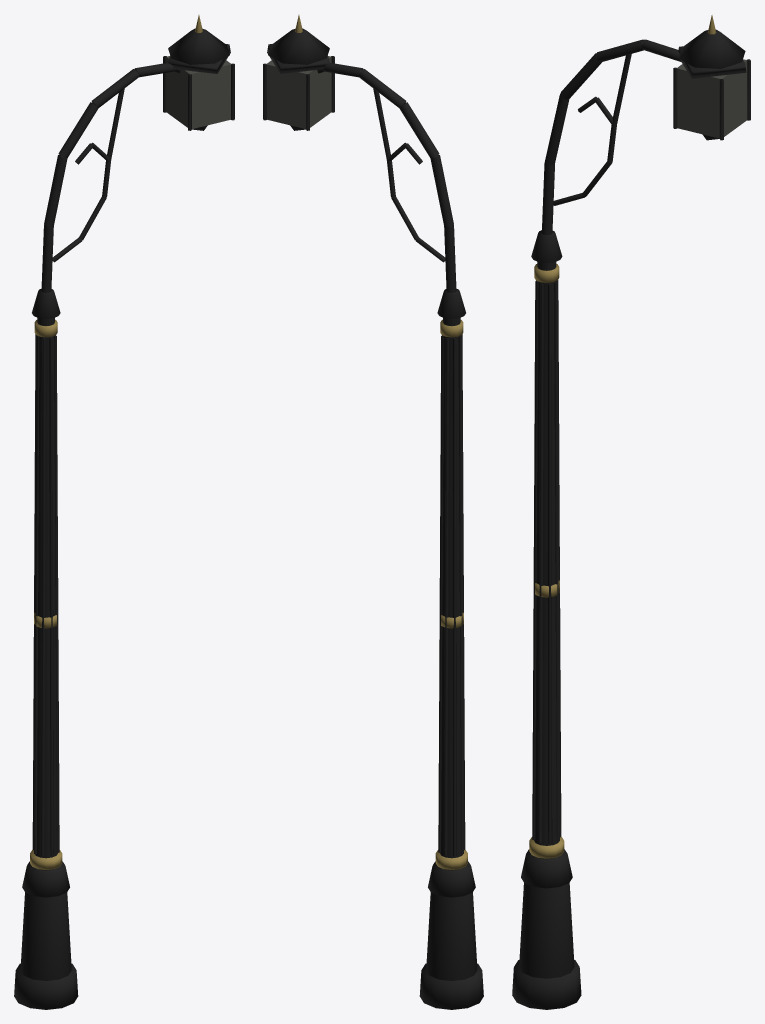
The model's file is SM_Prop_lamp_heritage_0.glb.
The picture shows the model from 3 angles, left to right: view 1: azimuth 30°, elevation 25°; view 2: azimuth 150°, elevation 25°; view 3: azimuth 330°, elevation 25°; orthographic projection. The views are drawn at different scales.
Visible parts, largest first — view 1: SM_Prop_lamp_heritage_0; view 2: SM_Prop_lamp_heritage_0; view 3: SM_Prop_lamp_heritage_0.
Boxes of the visible parts, x1,y1,x2,y2 form: SM_Prop_lamp_heritage_0: (14, 15, 234, 1009); SM_Prop_lamp_heritage_0: (263, 15, 483, 1009); SM_Prop_lamp_heritage_0: (512, 15, 750, 1009).
Size of the model in its own units: 1.53 by 6.5 by 0.46.
